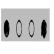correct: (41, 19, 47, 40), (4, 18, 9, 38)
